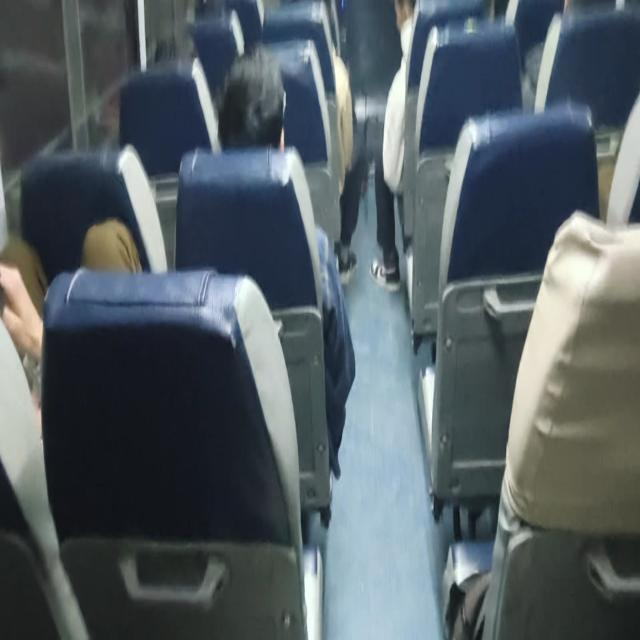person: (228, 76, 291, 156), (296, 0, 334, 40), (385, 0, 421, 36)
